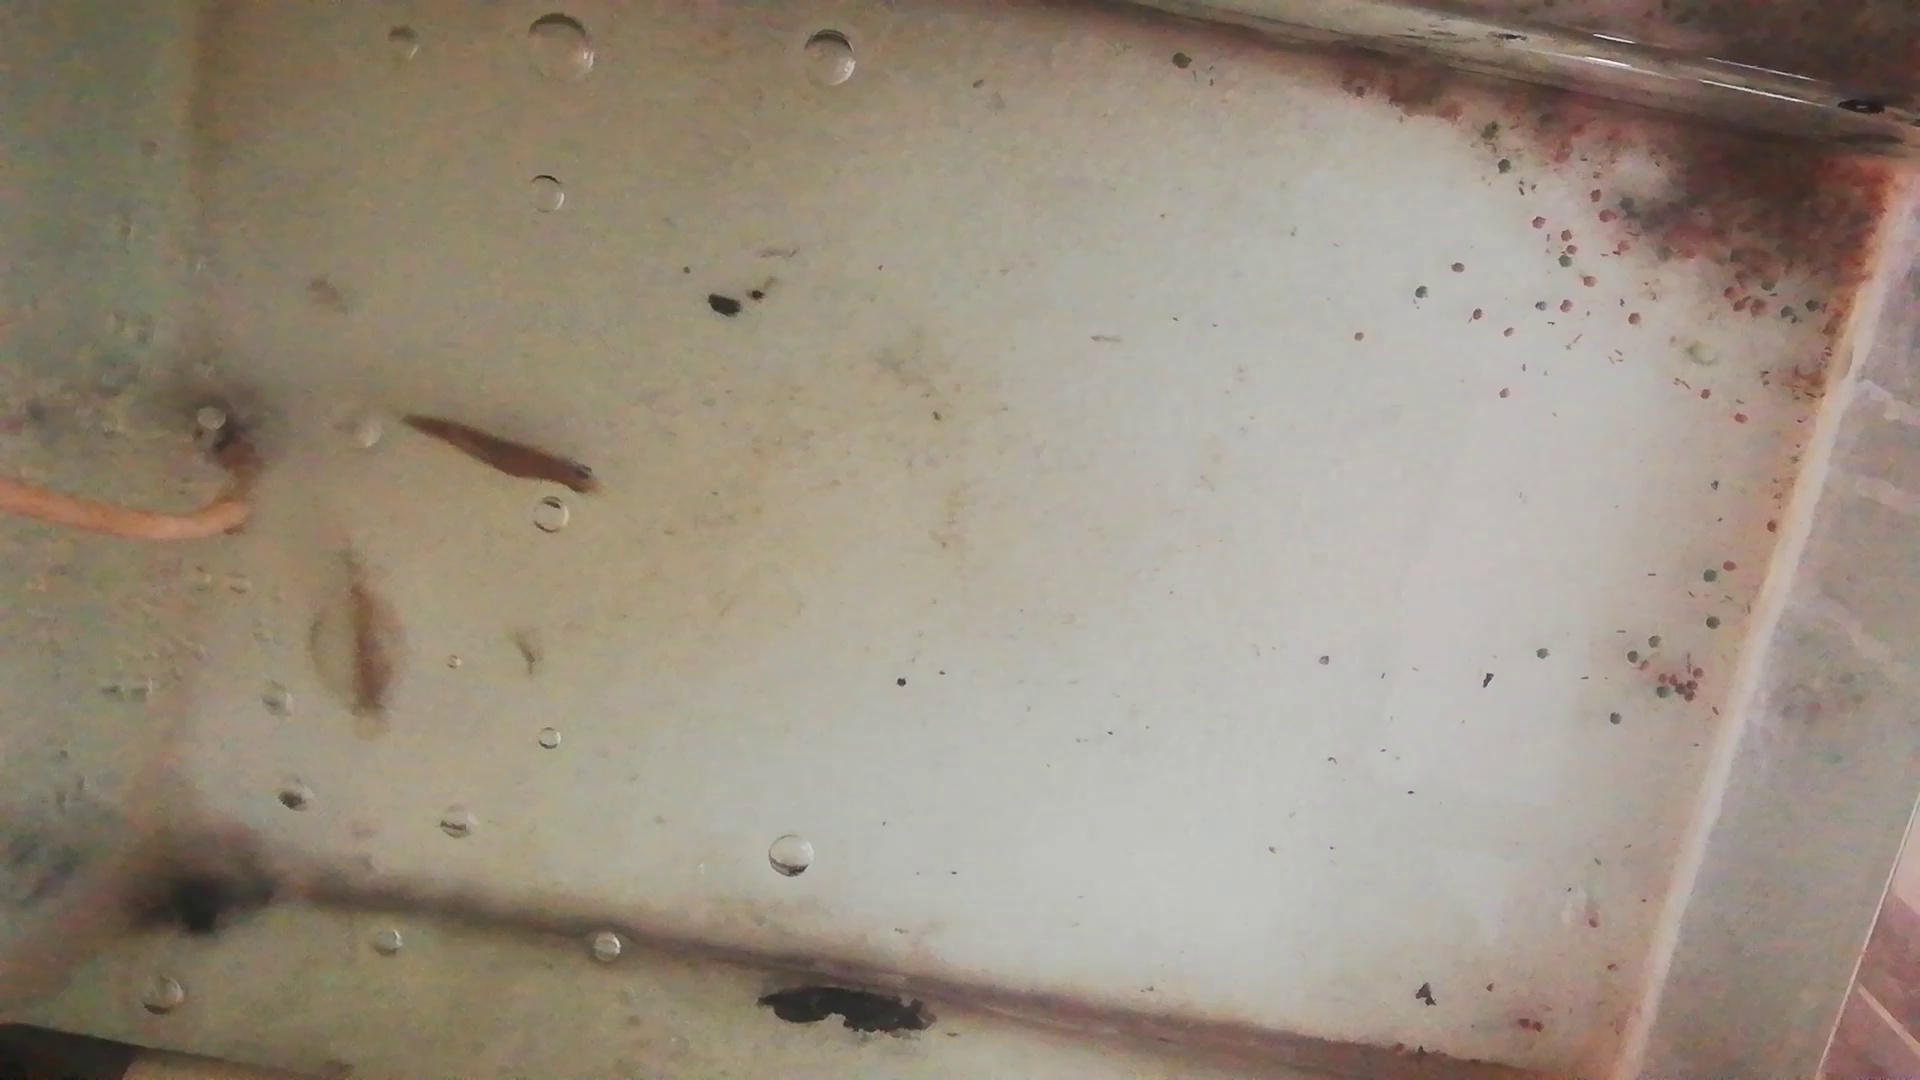fish: (396, 406, 597, 498), (339, 546, 389, 731)
